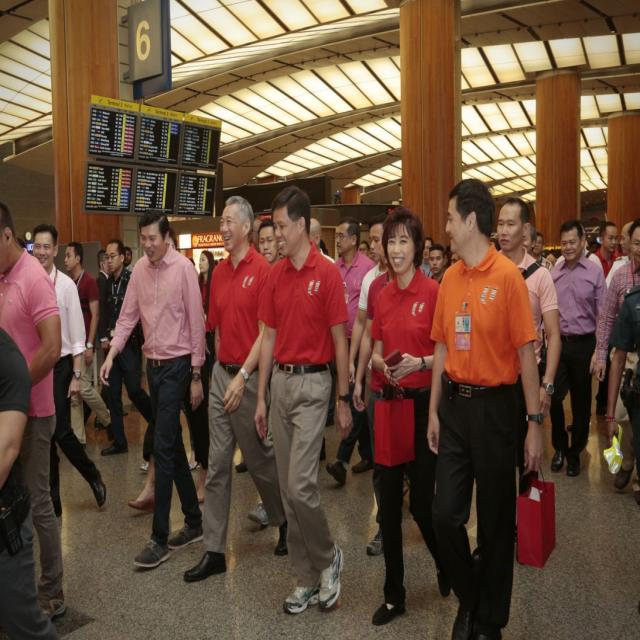body: (425, 176, 559, 640), (252, 183, 353, 616), (182, 194, 288, 584), (96, 208, 209, 572), (368, 206, 455, 628), (0, 200, 68, 622), (31, 223, 107, 520), (494, 195, 564, 498), (0, 329, 63, 640), (538, 218, 611, 478), (323, 216, 379, 488), (350, 240, 395, 558), (247, 216, 290, 529), (594, 219, 640, 507), (120, 380, 212, 518), (550, 218, 607, 436), (98, 237, 152, 456), (63, 240, 117, 450), (603, 279, 640, 498), (92, 246, 130, 431), (348, 212, 388, 386), (592, 220, 620, 416), (321, 401, 378, 486), (604, 219, 633, 291), (522, 227, 562, 271), (195, 250, 216, 318), (308, 217, 337, 264), (426, 242, 449, 286), (530, 231, 554, 272), (588, 231, 622, 258), (170, 234, 198, 266), (522, 222, 540, 262), (418, 235, 434, 279), (248, 216, 263, 253), (122, 245, 136, 273), (13, 233, 28, 255), (318, 236, 332, 259), (447, 245, 460, 265), (358, 240, 371, 258), (356, 238, 369, 255), (546, 248, 556, 267), (215, 256, 225, 265)
